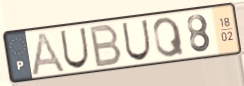8: (186, 13, 213, 54)
A: (29, 30, 68, 78)
B: (89, 22, 124, 69)
Q: (151, 15, 186, 60)
U: (58, 26, 91, 71), (120, 18, 153, 63)
